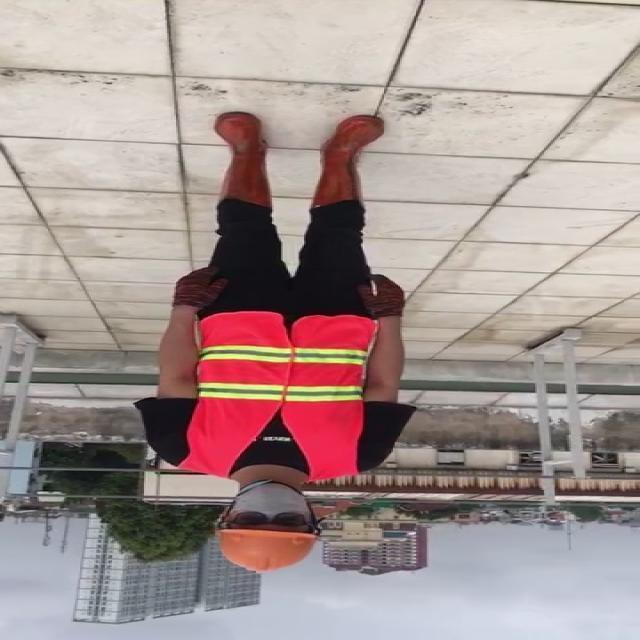Boots: (314, 114, 382, 208), (212, 113, 272, 206)
Gloves: (164, 262, 238, 310), (353, 271, 411, 320)
Helmet: (210, 526, 318, 572)
Vest: (183, 312, 375, 478)
